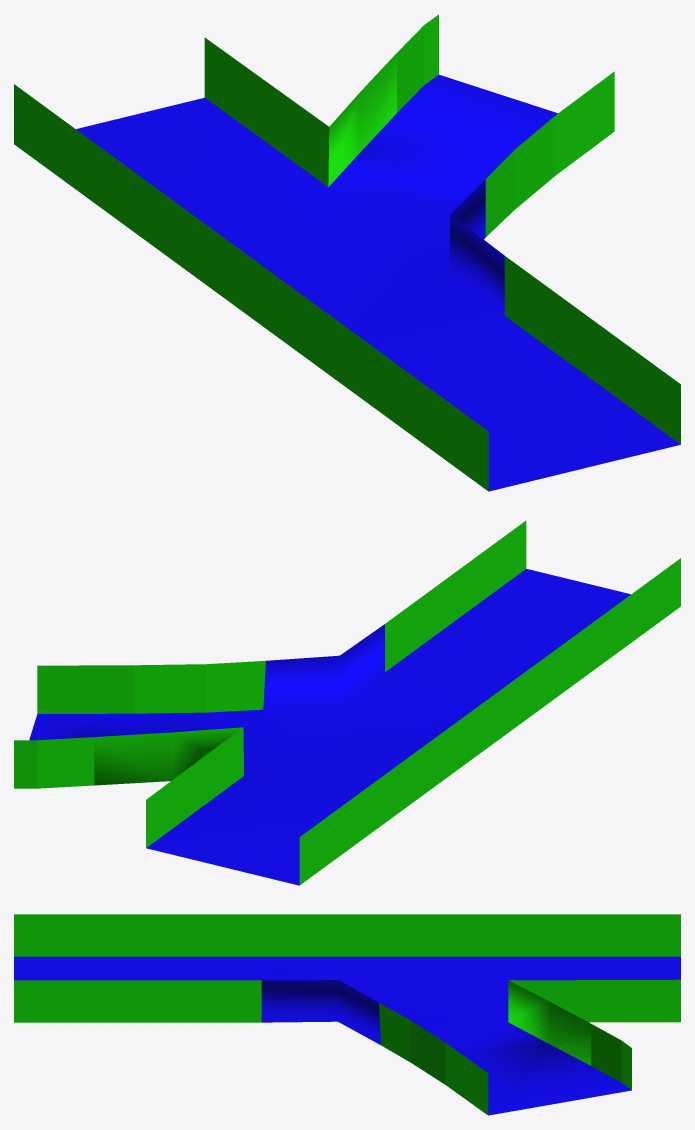
The model's file is inter2Reparer8.fbx.
3 renders of one model, top to bottom at view 1: azimuth 30°, elevation 25°; view 2: azimuth 150°, elevation 25°; view 3: azimuth 270°, elevation 25°, orthographic. The views are drawn at different scales.
Parts seen in each view (by area): view 1: svgMesh1.002; view 2: svgMesh1.002; view 3: svgMesh1.002.
Boxes of the visible parts, left/top/right/bottom form: svgMesh1.002: left=14, top=14, right=680, bottom=491; svgMesh1.002: left=14, top=520, right=680, bottom=885; svgMesh1.002: left=14, top=914, right=680, bottom=1115.
Size of the model in its own units: 362 by 45.98 by 643.
